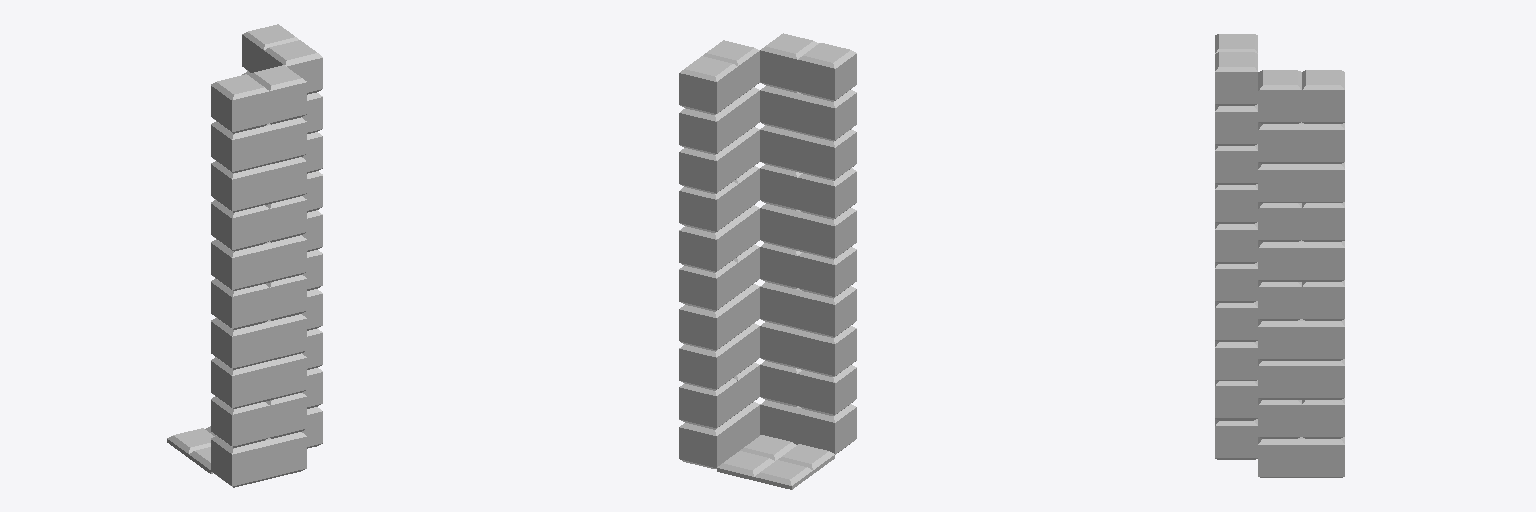
File: Edge wall tiled.obj
The picture shows the model from 3 angles: view 1: azimuth 30°, elevation 25°; view 2: azimuth 150°, elevation 25°; view 3: azimuth 270°, elevation 25°; orthographic projection.
Visible parts, largest first — view 1: obj_0.020; view 2: obj_0.020; view 3: obj_0.020.
Boxes of the visible parts, x1=… form: obj_0.020: x1=167, y1=24, x2=322, y2=487; obj_0.020: x1=679, y1=33, x2=856, y2=489; obj_0.020: x1=1215, y1=34, x2=1344, y2=477.
Size of the model in its own units: 30 by 100 by 30.